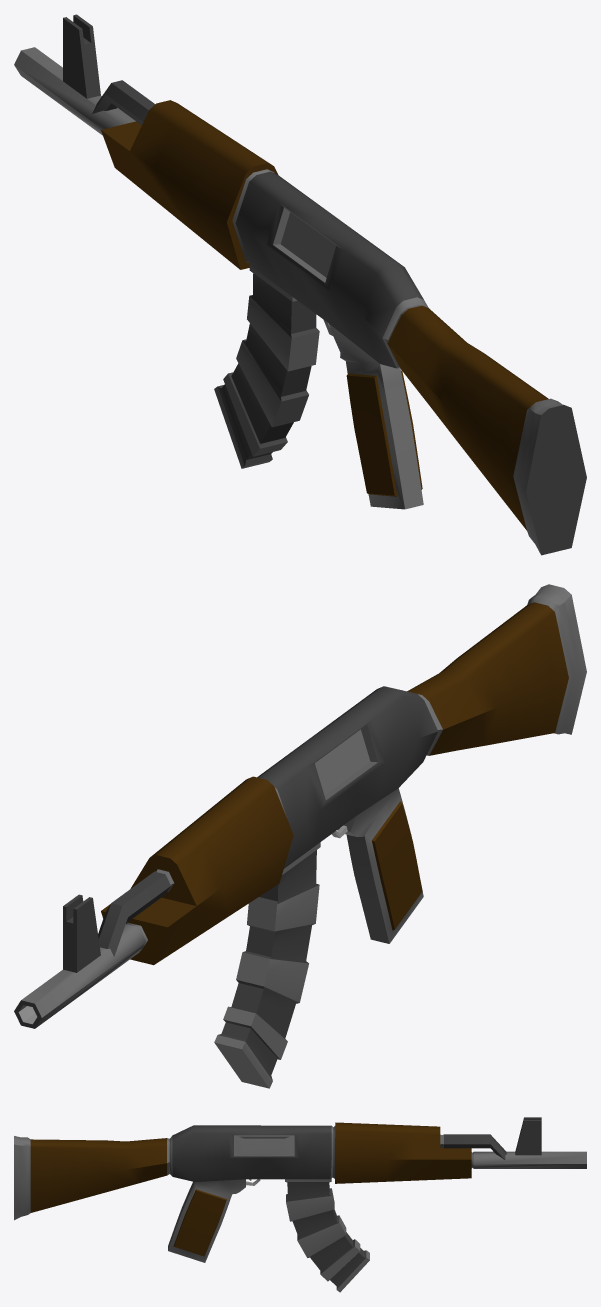
Rendered from wpn_rifle.glb.
3 views of the same model, one above another, from view 1: azimuth 30°, elevation 25°; view 2: azimuth 150°, elevation 25°; view 3: azimuth 270°, elevation 25° (orthographic). The views are drawn at different scales.
Visible parts, largest first — view 1: wpn_rifle; view 2: wpn_rifle; view 3: wpn_rifle.
Boxes of the visible parts, box(x1,y1,x2,y2) form: wpn_rifle: box(14, 14, 586, 555); wpn_rifle: box(14, 584, 586, 1088); wpn_rifle: box(14, 1117, 586, 1292).
Bounding box in the file's own units: 0.0637 × 0.2845 × 0.87.
Materials: 1 (1 with a texture image).
